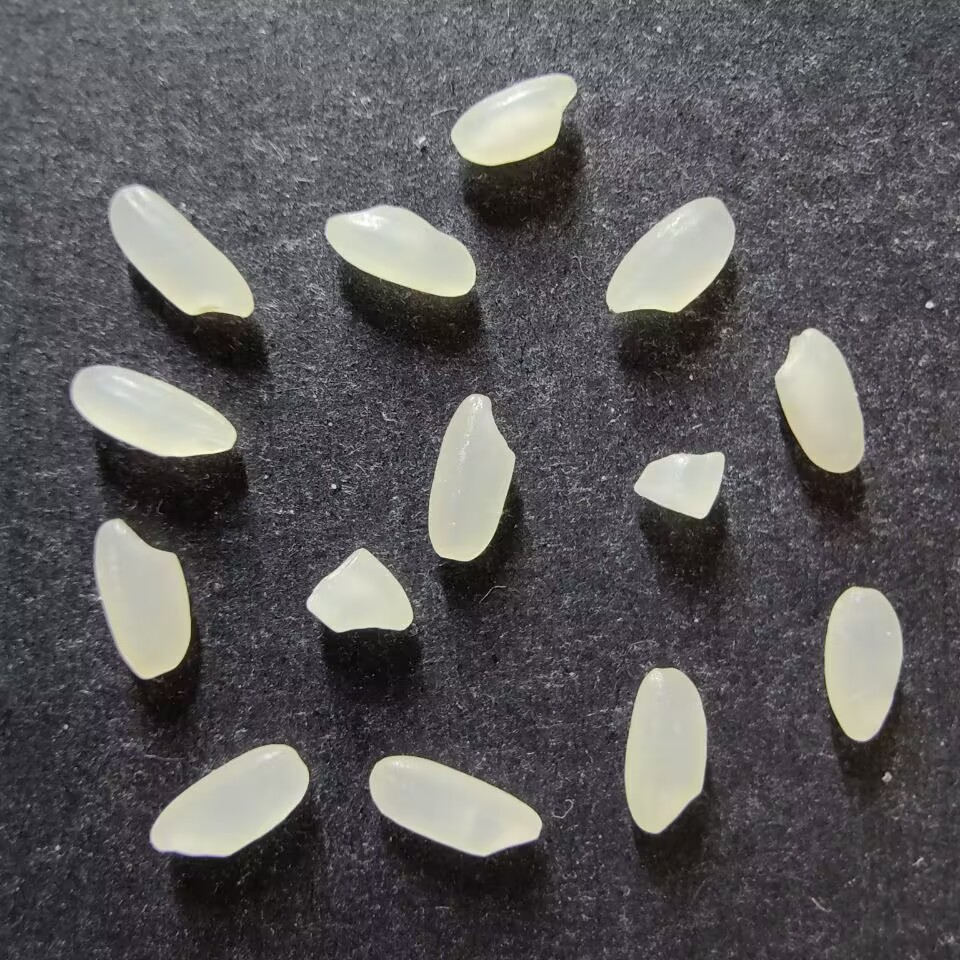broken: (305, 547, 413, 632), (633, 451, 724, 519)
rice: (108, 185, 255, 318), (149, 744, 309, 857), (368, 755, 542, 856), (93, 519, 190, 679), (70, 364, 236, 457), (604, 196, 735, 313), (427, 393, 514, 561), (623, 667, 707, 834), (323, 205, 475, 297), (773, 327, 864, 473), (823, 586, 902, 741), (449, 73, 577, 166)
